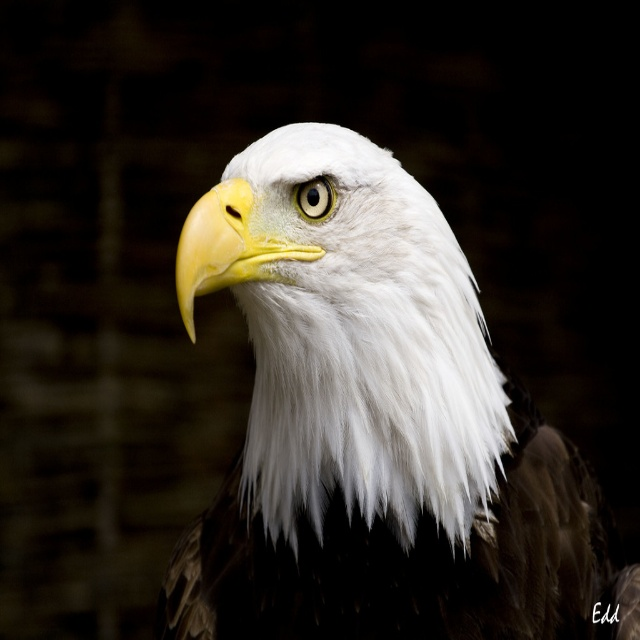Eagle: (146, 114, 640, 639)
